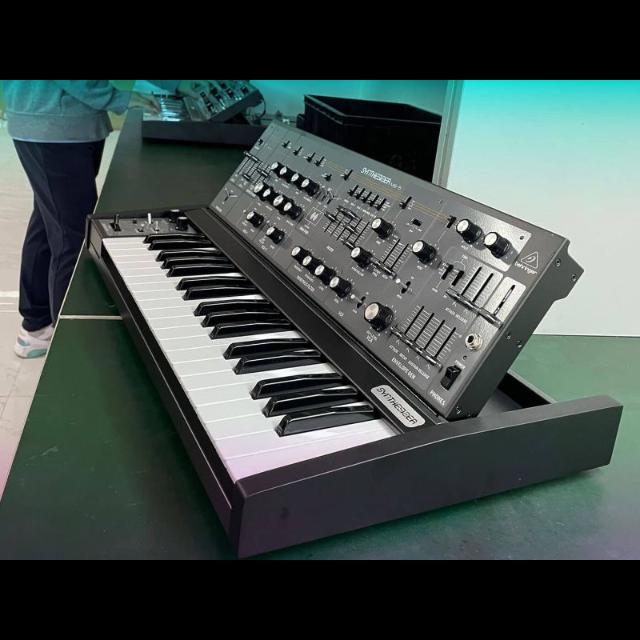Electronic-Keyboard: (81, 115, 617, 501)
